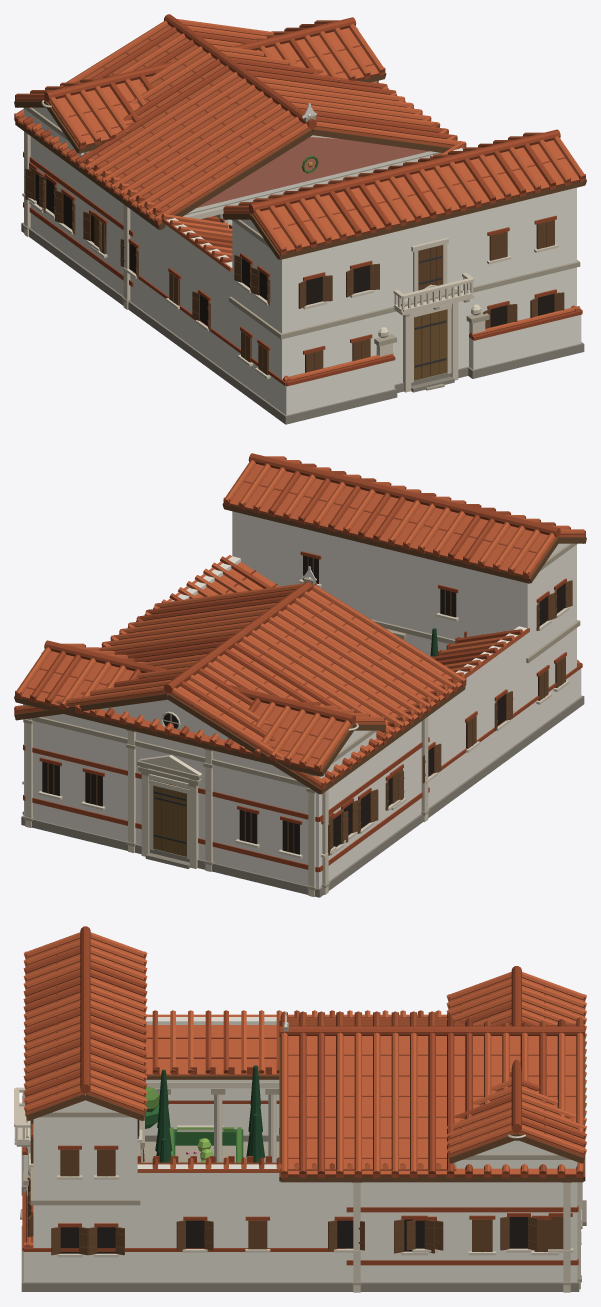
The model's file is Villa.fbx.
3 renders of one model, top to bottom at view 1: azimuth 30°, elevation 25°; view 2: azimuth 150°, elevation 25°; view 3: azimuth 270°, elevation 25°, orthographic. The views are drawn at different scales.
Parts seen in each view (by area): view 1: Villa_1, Villa_0; view 2: Villa_0, Villa_1; view 3: Villa_1, Villa_0.
Boxes of the visible parts, x1=… form: Villa_1: x1=14, y1=17, x2=586, y2=420; Villa_0: x1=14, y1=14, x2=584, y2=424; Villa_0: x1=14, y1=566, x2=584, y2=897; Villa_1: x1=14, y1=453, x2=586, y2=896; Villa_1: x1=14, y1=926, x2=586, y2=1291; Villa_0: x1=20, y1=1011, x2=586, y2=1292.
Size of the model in its own units: 3.67 by 2.22 by 5.49.
